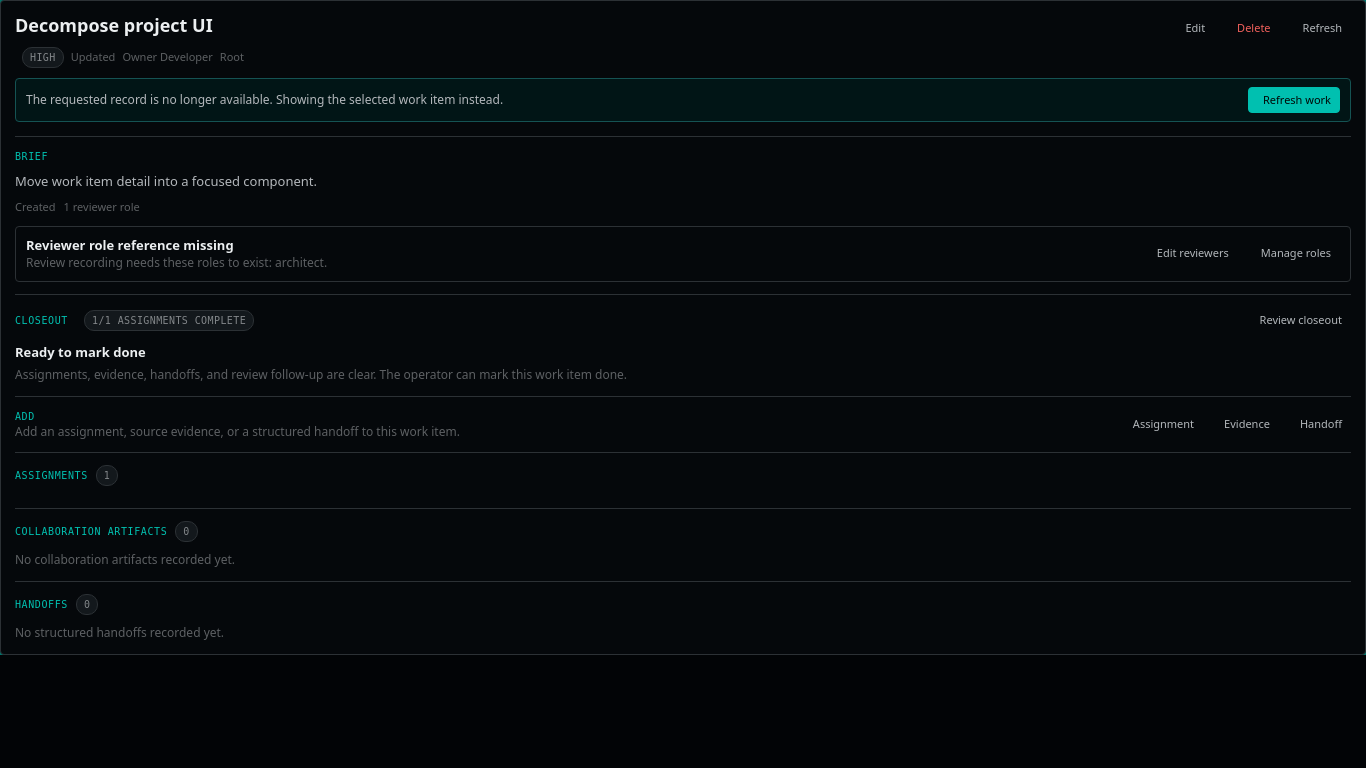
Test: ProjectWorkItemDetail › announces a stale exact target and focuses the selected work item without using a decoy
The width and height of the screenshot is (1366, 768).
Expected: the text "The requested record is no longer available. Showing the selected work item instead." is shown, x1=26 y1=91 x2=503 y2=108
Click the button "Refresh work" at [1294, 100], box x1=1248 y1=87 x2=1340 y2=112
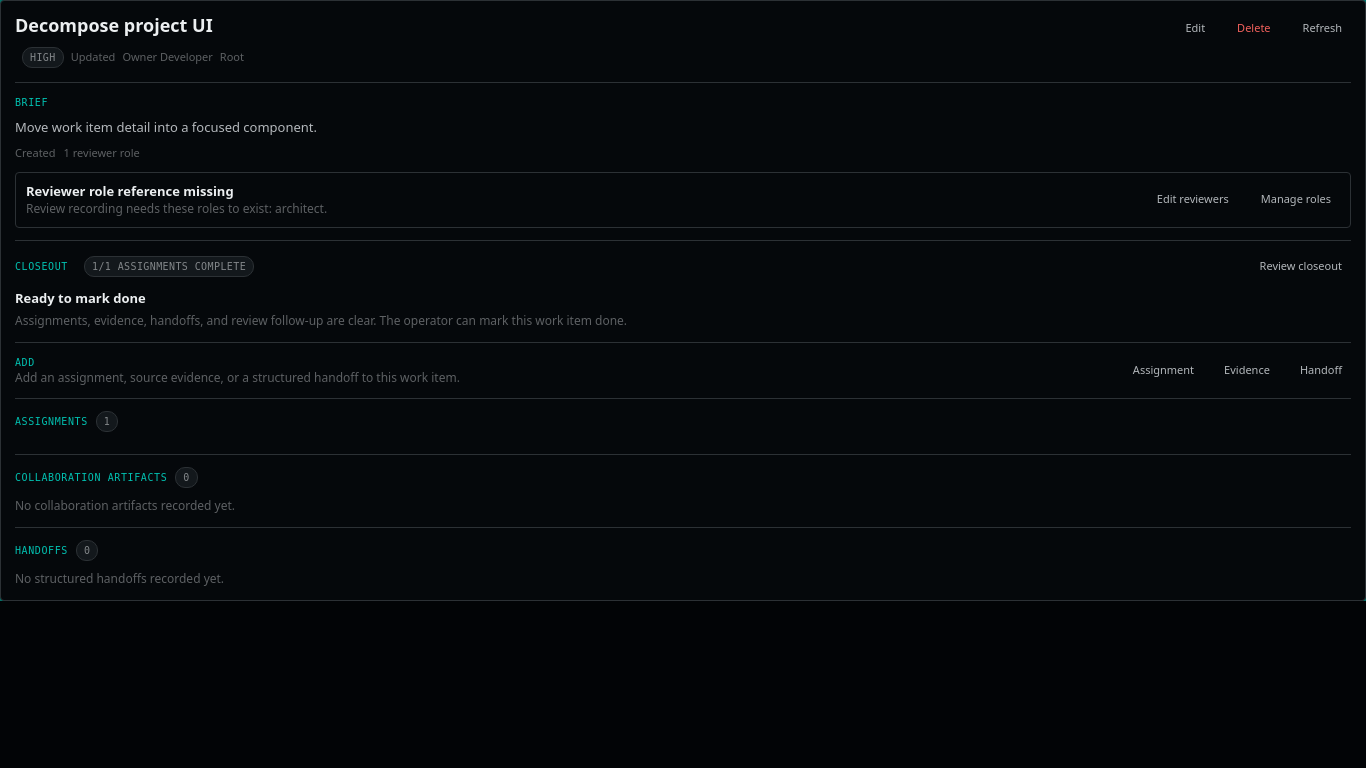
Result: the text "The requested record is no longer available. Showing the selected work item instead." is gone
